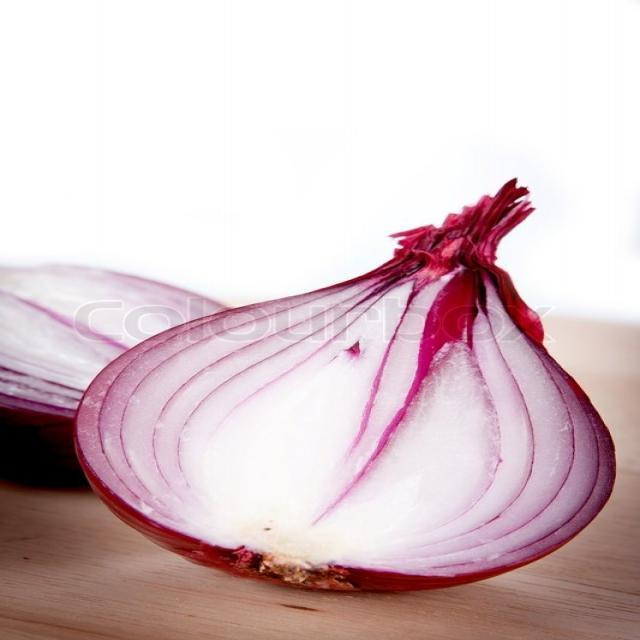onion: (85, 187, 624, 602)
